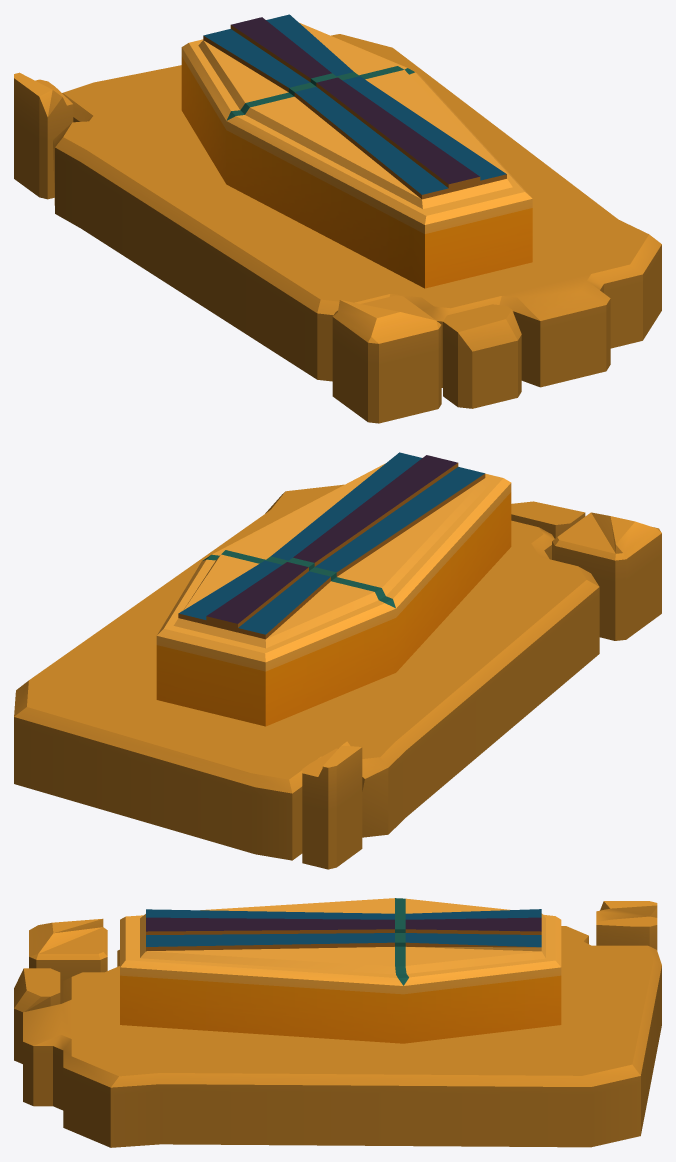
File: Tomb_01.fbx
3 renders of one model, top to bottom at view 1: azimuth 30°, elevation 25°; view 2: azimuth 150°, elevation 25°; view 3: azimuth 270°, elevation 25°, orthographic. The views are drawn at different scales.
Visible parts, largest first — view 1: Tomb Base 02, Tomb Cover 01, Tomb_01; view 2: Tomb Base 02, Tomb Cover 01, Tomb_01; view 3: Tomb Base 02, Tomb Cover 01, Tomb_01.
Part boxes in pixels (box(x1,y1,x2,y2)): Tomb Base 02: box(14, 34, 661, 423); Tomb Cover 01: box(181, 14, 532, 233); Tomb_01: box(181, 56, 532, 288); Tomb Base 02: box(14, 484, 661, 869); Tomb Cover 01: box(156, 452, 511, 671); Tomb_01: box(156, 492, 511, 726); Tomb Base 02: box(14, 901, 661, 1147); Tomb Cover 01: box(120, 898, 561, 994); Tomb_01: box(120, 975, 561, 1043).
Size of the model in its own units: 212 by 90.77 by 369.
